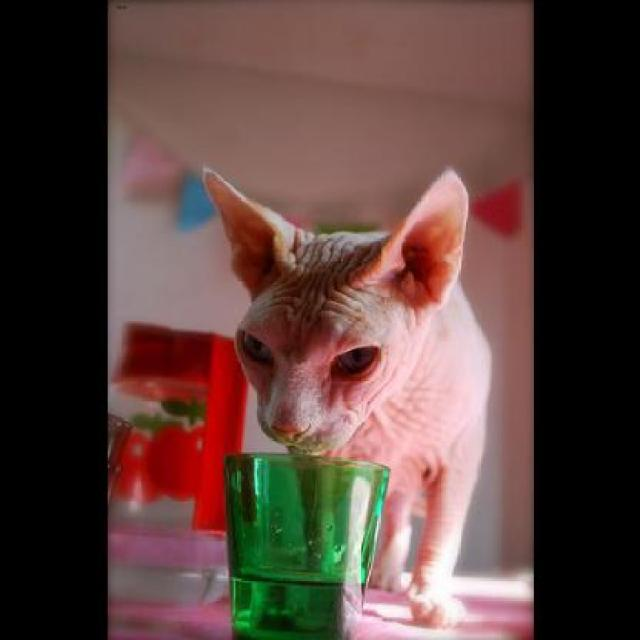unauthorized: (200, 162, 492, 629)
